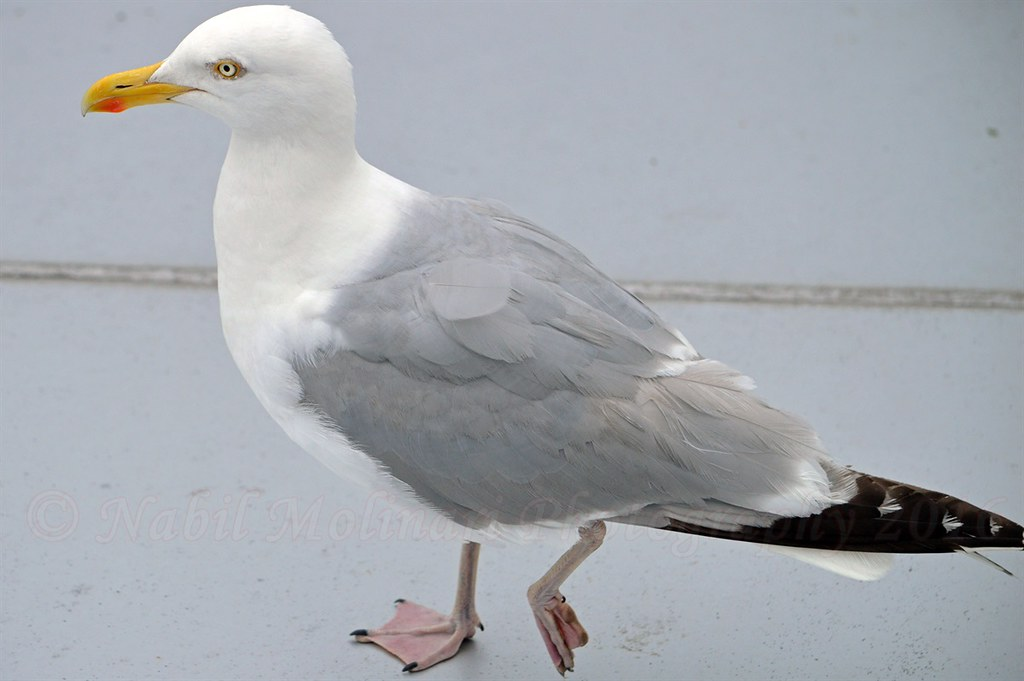bird: (84, 6, 1024, 669)
